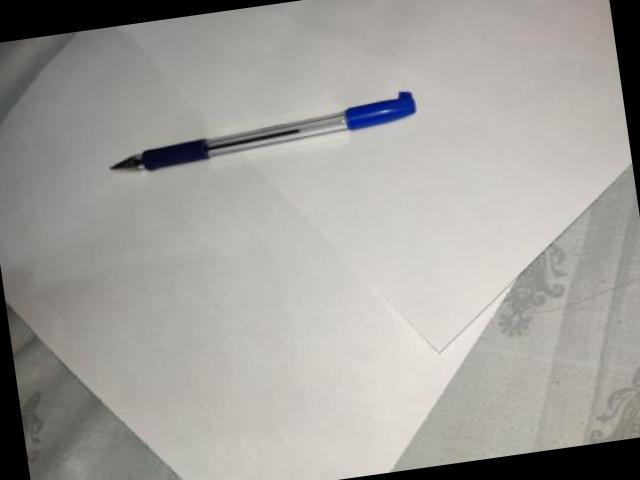PEN: (102, 86, 427, 189)
